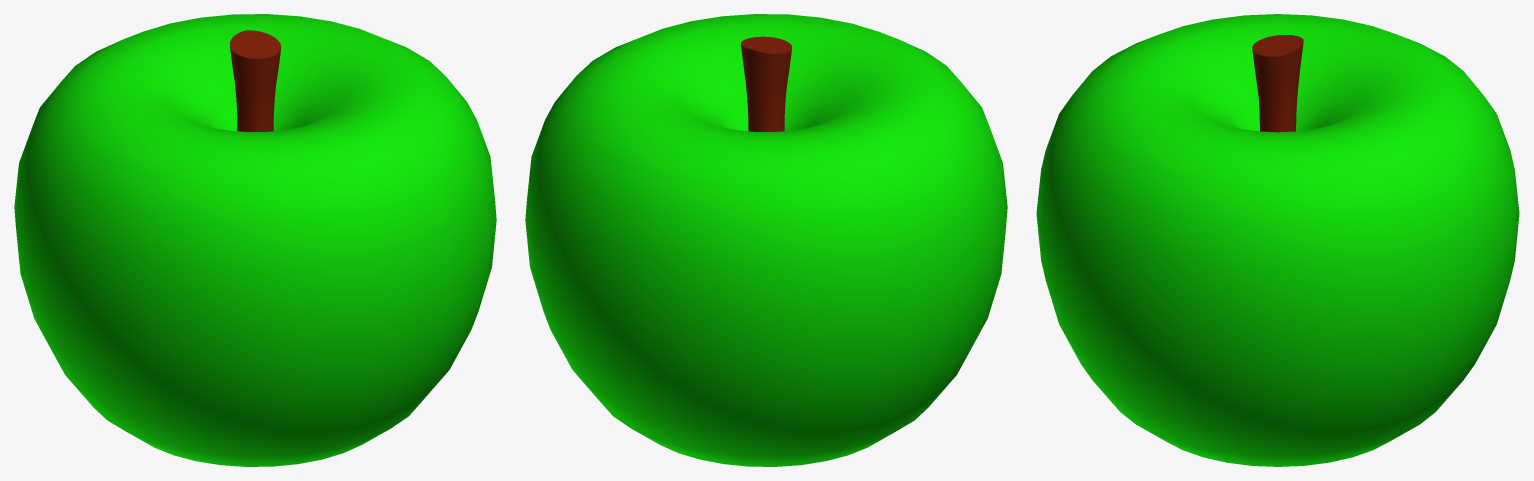
Rendered from Apple.fbx.
3 views of the same model, side by side, from view 1: azimuth 30°, elevation 25°; view 2: azimuth 150°, elevation 25°; view 3: azimuth 270°, elevation 25° (orthographic).
Parts seen in each view (by area): view 1: Cylinder; view 2: Cylinder; view 3: Cylinder.
Part boxes in pixels (left/top/right/bottom): Cylinder: left=14, top=14, right=496, bottom=466; Cylinder: left=525, top=14, right=1007, bottom=466; Cylinder: left=1036, top=14, right=1519, bottom=466.
Size of the model in its own units: 181 by 156 by 181.
